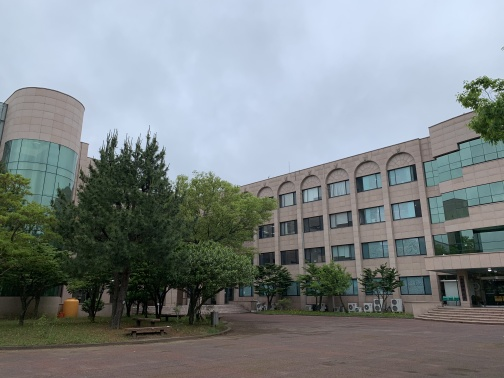Joint Experimental Labs: (1, 82, 94, 204)
Natural Science2: (254, 120, 504, 318)
